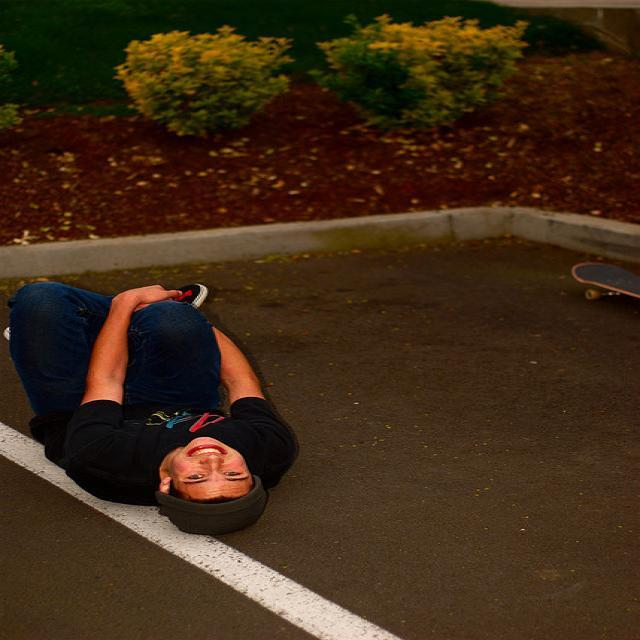non-dog: (2, 278, 302, 536)
